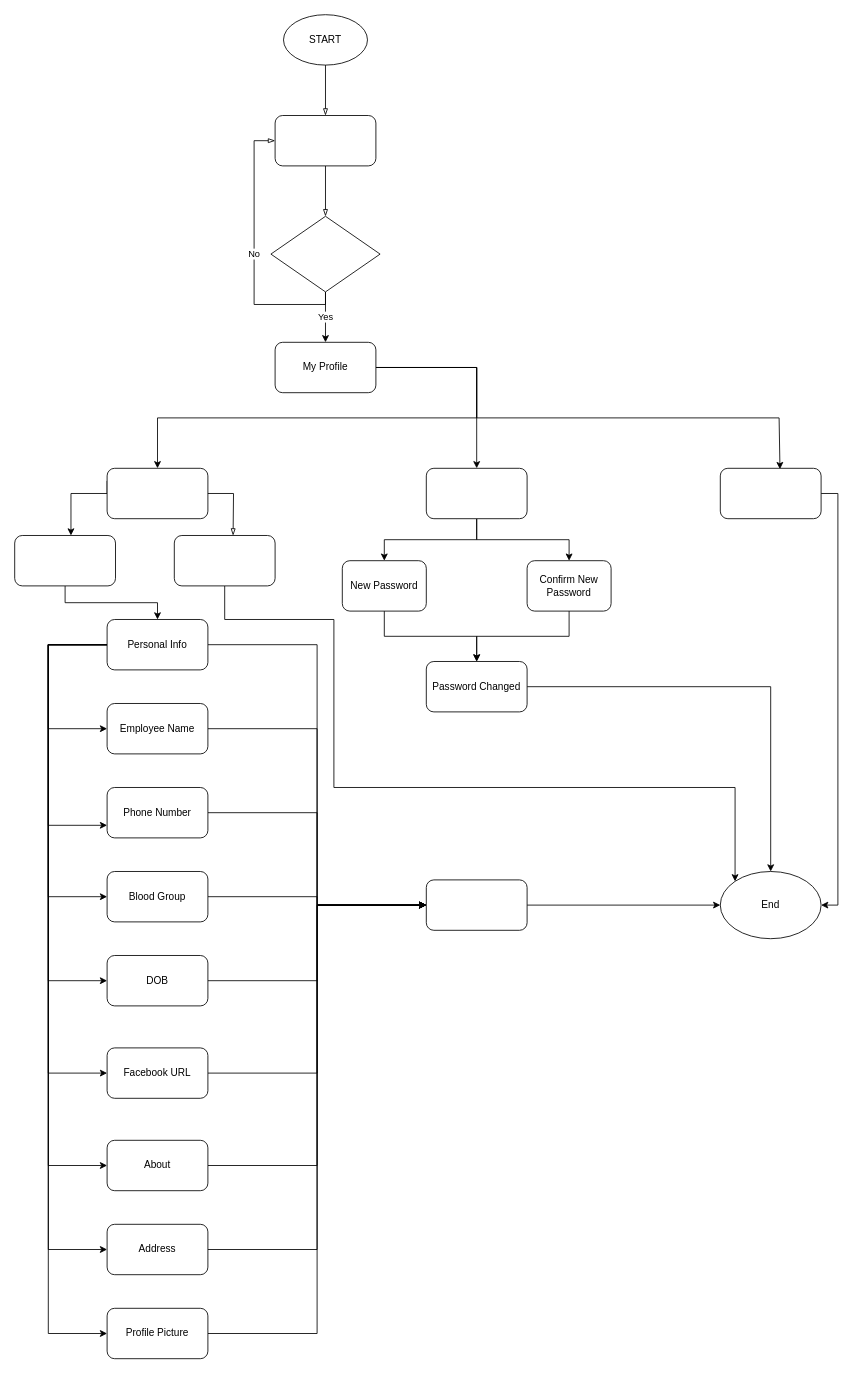
Some shapes in this 859 by 1373 pixel diagram are drawn without their labels. Each missing label, with the box of its shape:
Account's Info: (14, 535, 116, 586)
Change Password: (425, 467, 527, 519)
Information Saved: (425, 879, 527, 930)
LogIn: (274, 115, 376, 166)
Login with valid email and Password: (270, 215, 380, 292)
Logout: (719, 467, 821, 519)
Overview: (173, 535, 275, 586)
Profile: (106, 467, 208, 519)
